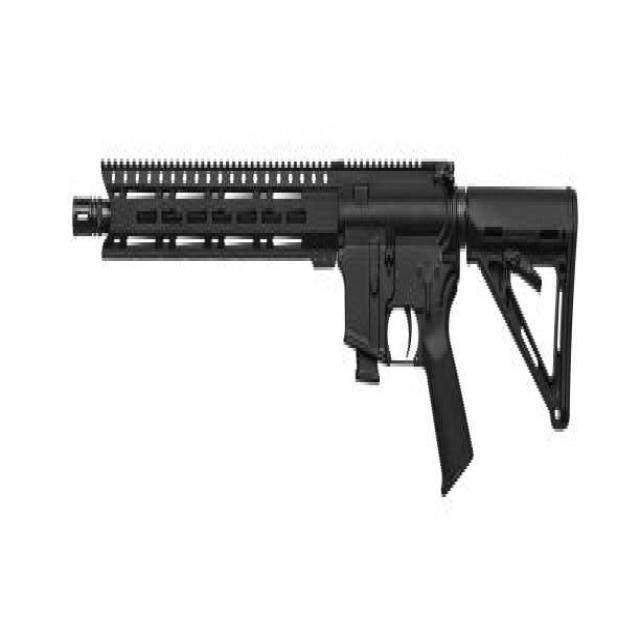rifle: (71, 138, 589, 505)
